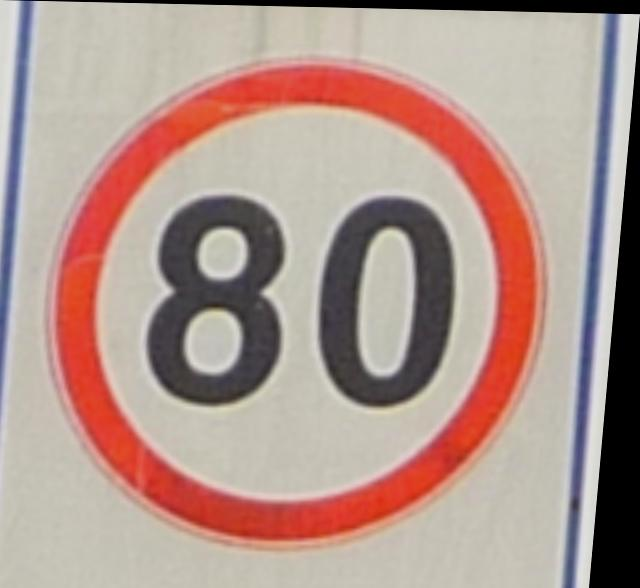limit80: (22, 37, 579, 561)
